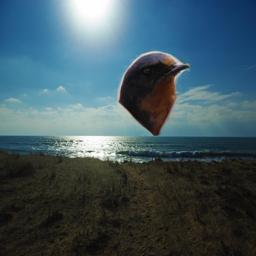Swallow: (117, 50, 191, 136)
